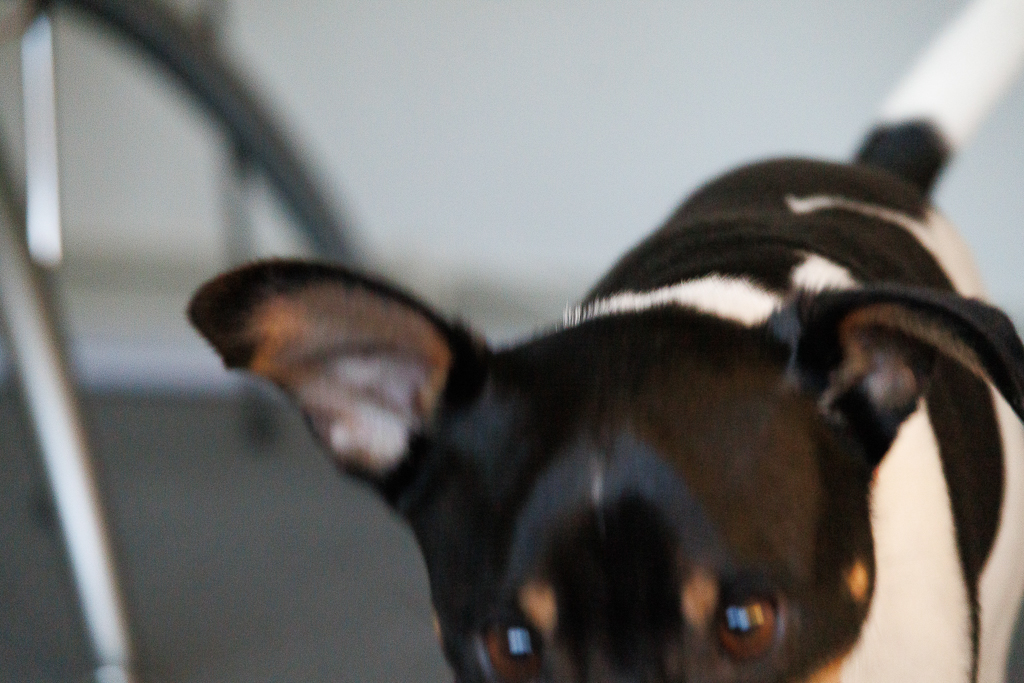Dog: (173, 0, 1024, 683)
